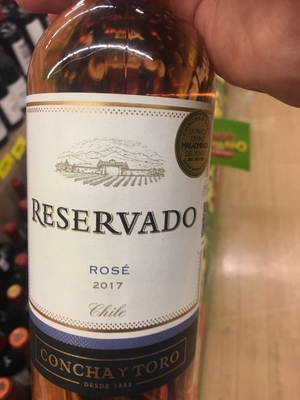reservado rose: (25, 8, 208, 400)
